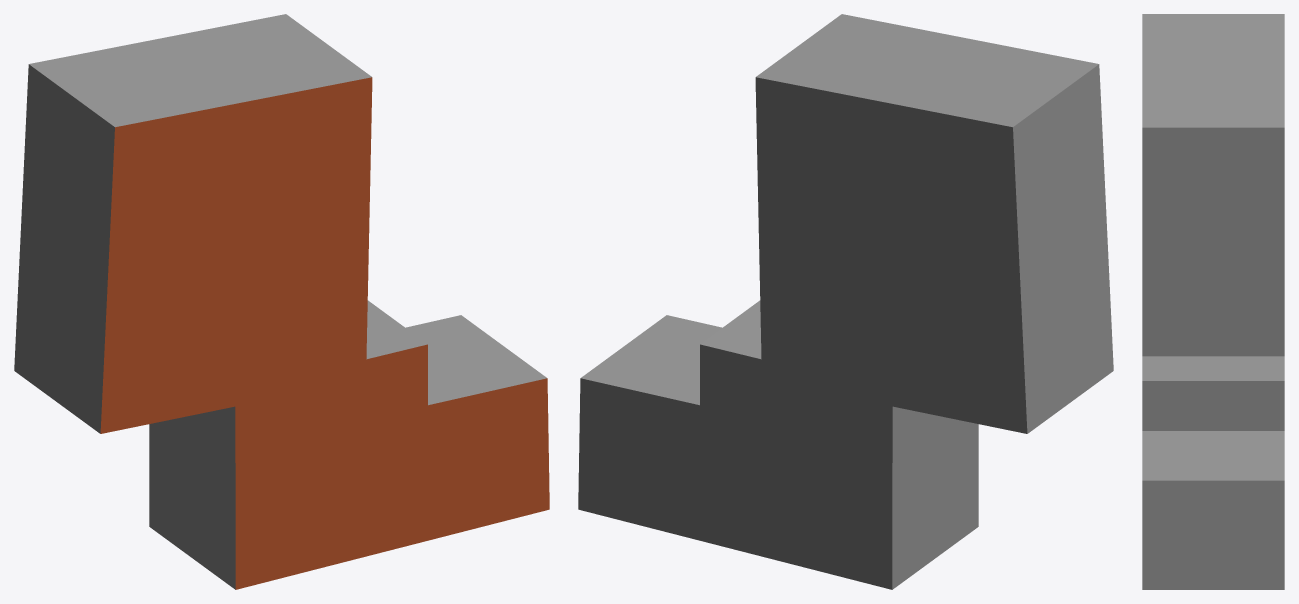
The model's file is construction_0973_assumed_A_Casa_h6m.obj.
3 views of the same model, side by side, from view 1: azimuth 30°, elevation 25°; view 2: azimuth 150°, elevation 25°; view 3: azimuth 270°, elevation 25° (orthographic). The views are drawn at different scales.
Visible parts, largest first — view 1: construction_0973_assumed_A_Casa; view 2: construction_0973_assumed_A_Casa; view 3: construction_0973_assumed_A_Casa.
Boxes of the visible parts, x1,y1,x2,y2 form: construction_0973_assumed_A_Casa: (14, 14, 549, 589); construction_0973_assumed_A_Casa: (578, 14, 1113, 589); construction_0973_assumed_A_Casa: (1142, 14, 1284, 589).
Size of the model in its own units: 18.02 by 18.86 by 6.
